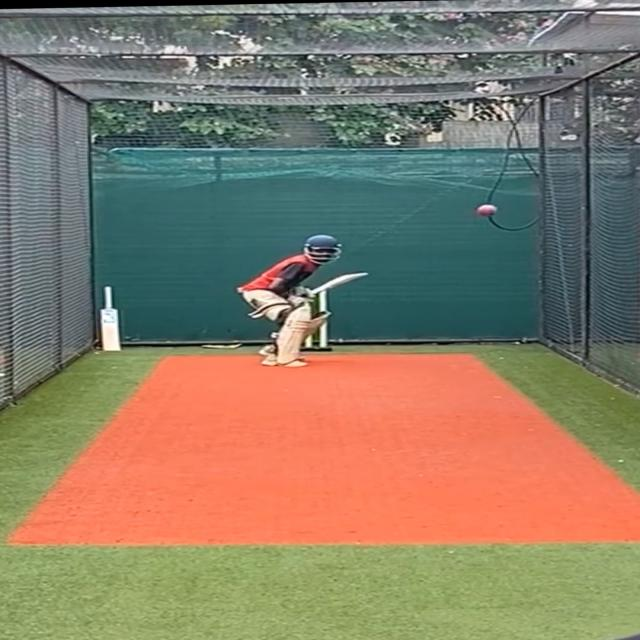ball: (476, 204, 497, 218)
stump: (288, 285, 334, 352)
